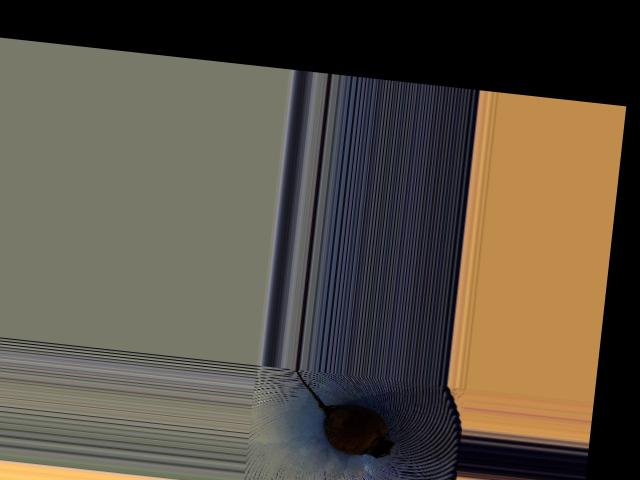beet: (288, 368, 401, 458)
